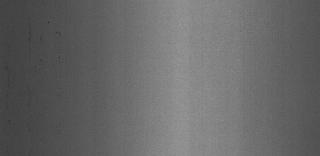inclusion: (56, 28, 64, 74), (37, 29, 44, 68)
water spot: (24, 21, 34, 61)
